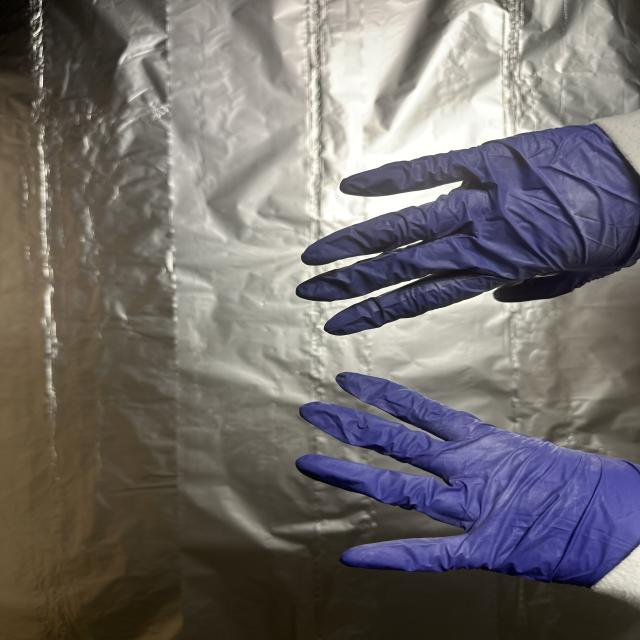gloves_contaminated: (296, 373, 640, 587), (296, 125, 640, 335)
